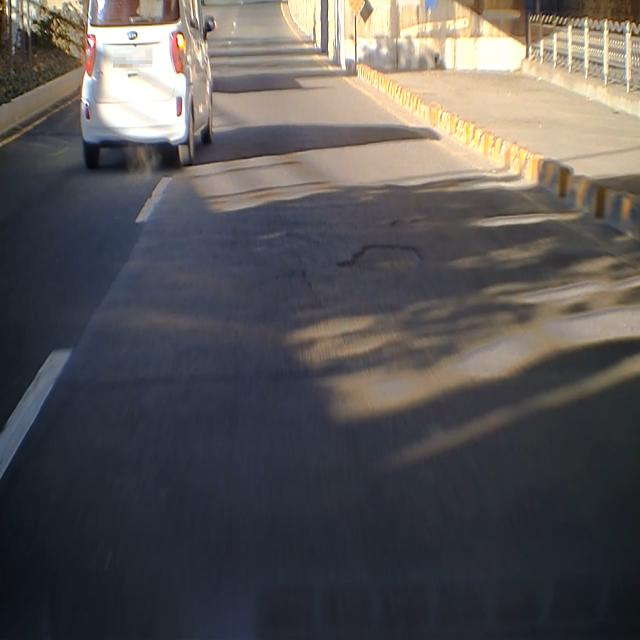Pothole: (335, 238, 428, 284), (268, 265, 326, 322)
